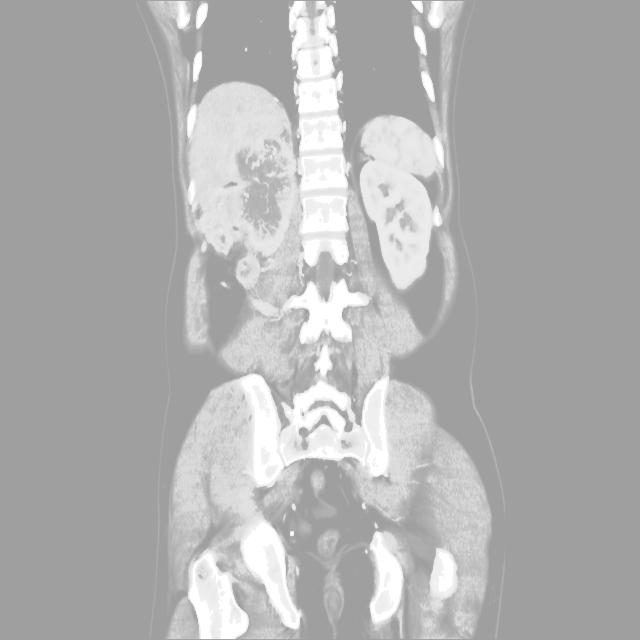TUMOR: (137, 88, 634, 362)
